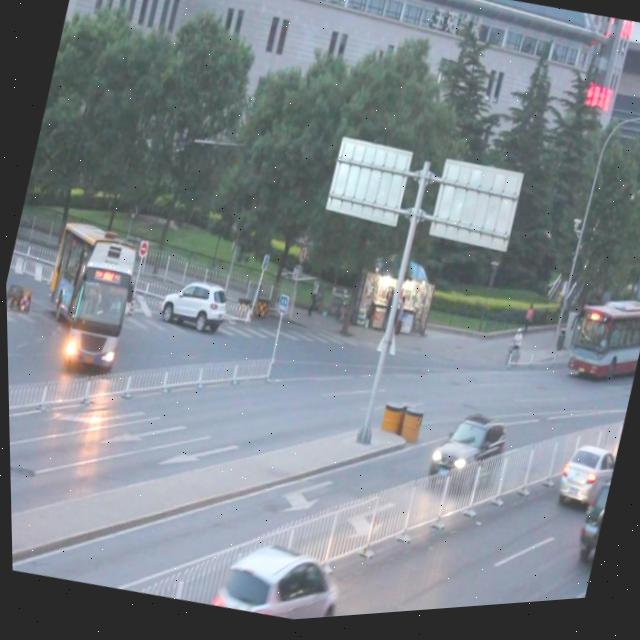car: (209, 533, 344, 628), (419, 404, 510, 505), (154, 269, 230, 342), (547, 444, 616, 524), (566, 479, 610, 569)
van: (30, 211, 148, 374)
